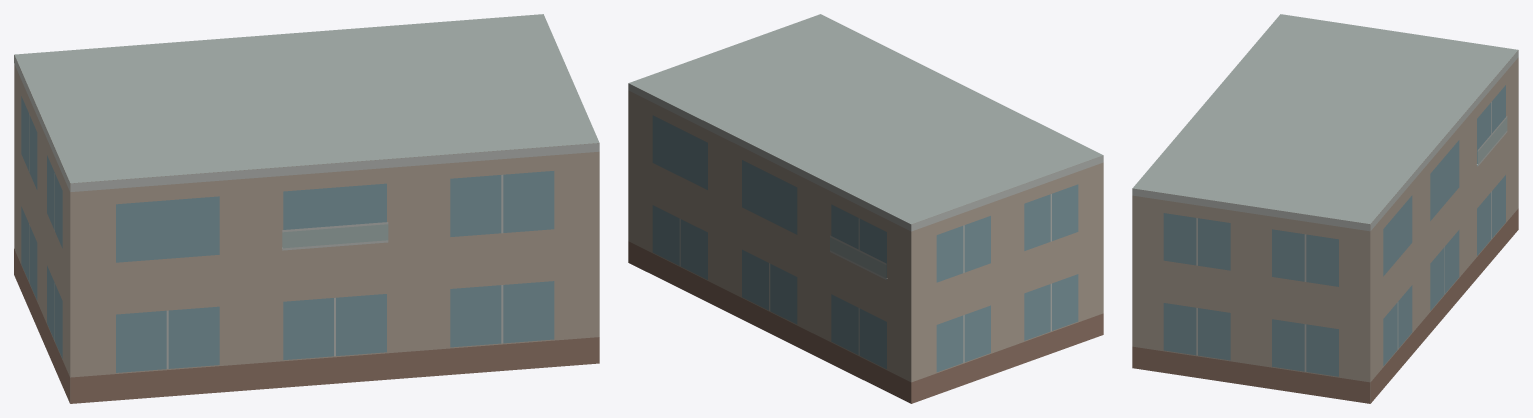
File: survey-upis-33012848.glb
The picture shows the model from 3 angles, left to right: view 1: azimuth 30°, elevation 25°; view 2: azimuth 150°, elevation 25°; view 3: azimuth 270°, elevation 25°; orthographic projection. The views are drawn at different scales.
Parts seen in each view (by area): view 1: survey-upis-33012848.tmp; view 2: survey-upis-33012848.tmp; view 3: survey-upis-33012848.tmp.
Part boxes in pixels (x1,y1,x2,y2): survey-upis-33012848.tmp: (14, 14, 599, 403); survey-upis-33012848.tmp: (628, 14, 1103, 403); survey-upis-33012848.tmp: (1132, 14, 1518, 403).
Bounding box in the file's own units: 15.31 × 6.1 × 11.89.
